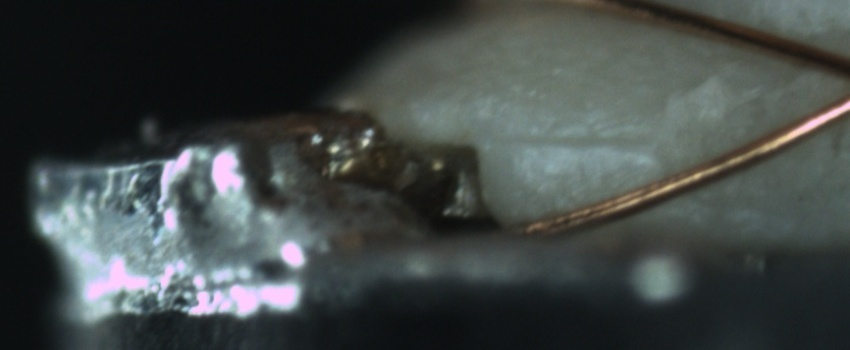DL: (504, 110, 650, 167)
